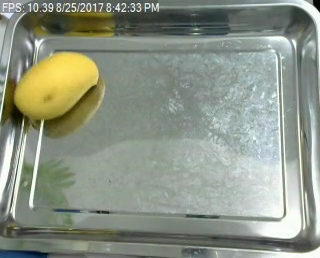Mango: (11, 48, 107, 124)
